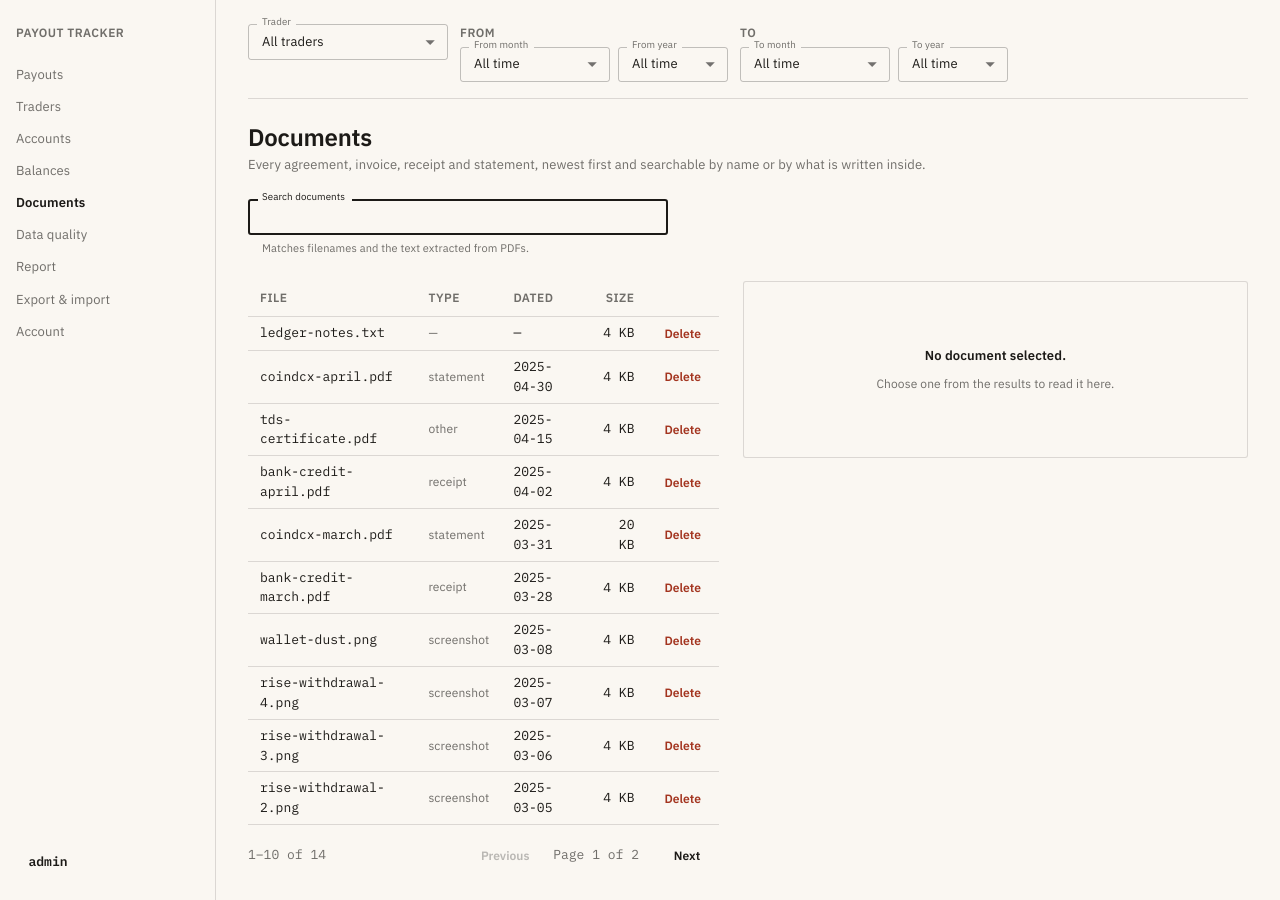
Test: the document register (F31) › stops at both ends rather than asking for a page that is not there
Expected: the text "coindcx-march.pdf" is shown, top-left (260, 526), bottom-right (393, 543)
Expected: the button "Previous" is disabled, top-left (473, 841), bottom-right (537, 870)
What coordinates should you click on to do the following:
click the button "Next"
I would click on:
 (687, 856)
Its box is top-left (655, 841), bottom-right (719, 870).
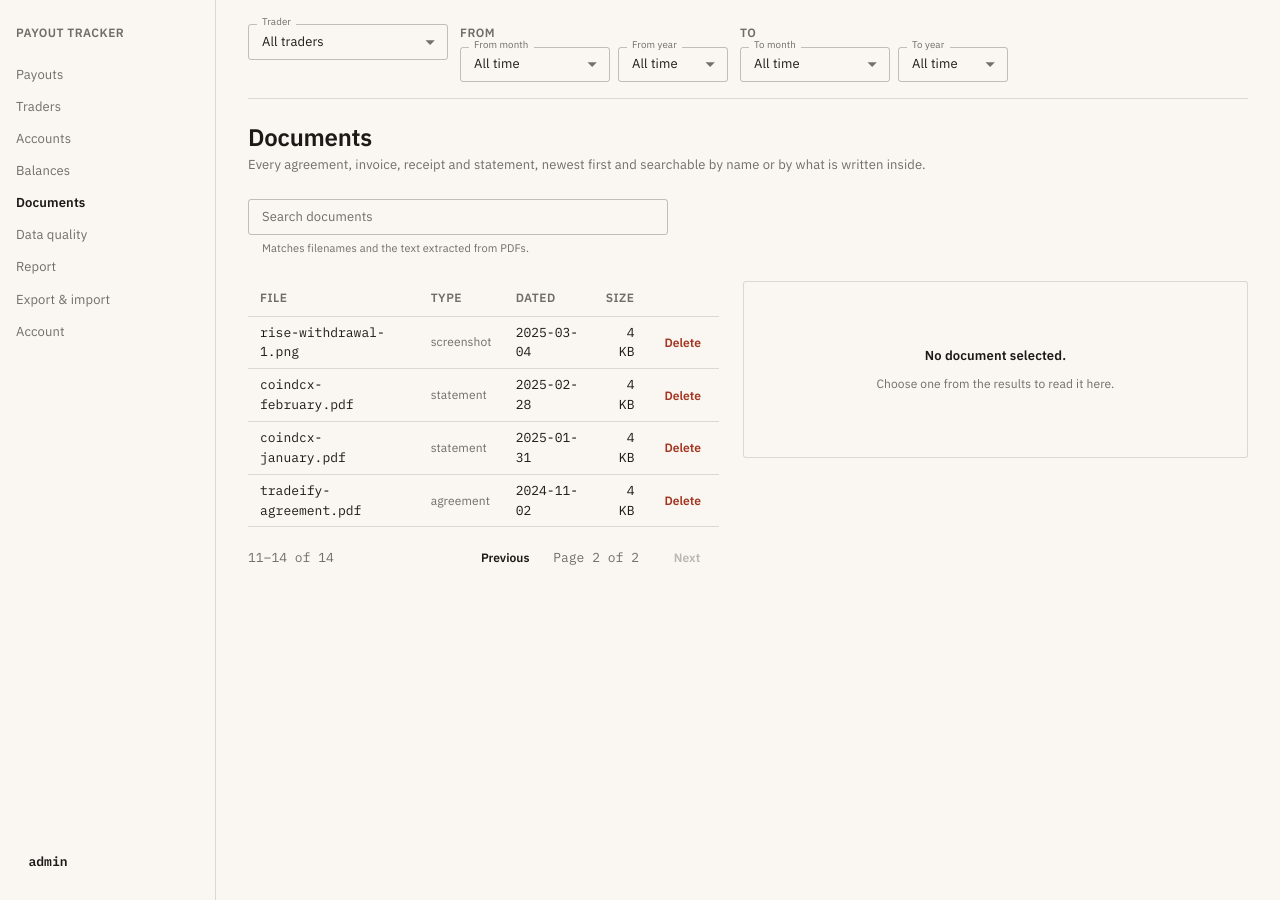
Now the text "11–14 of 14" is shown, box top-left (248, 548), bottom-right (334, 567)
Now the button "Next" is disabled, box top-left (655, 543), bottom-right (719, 572)
